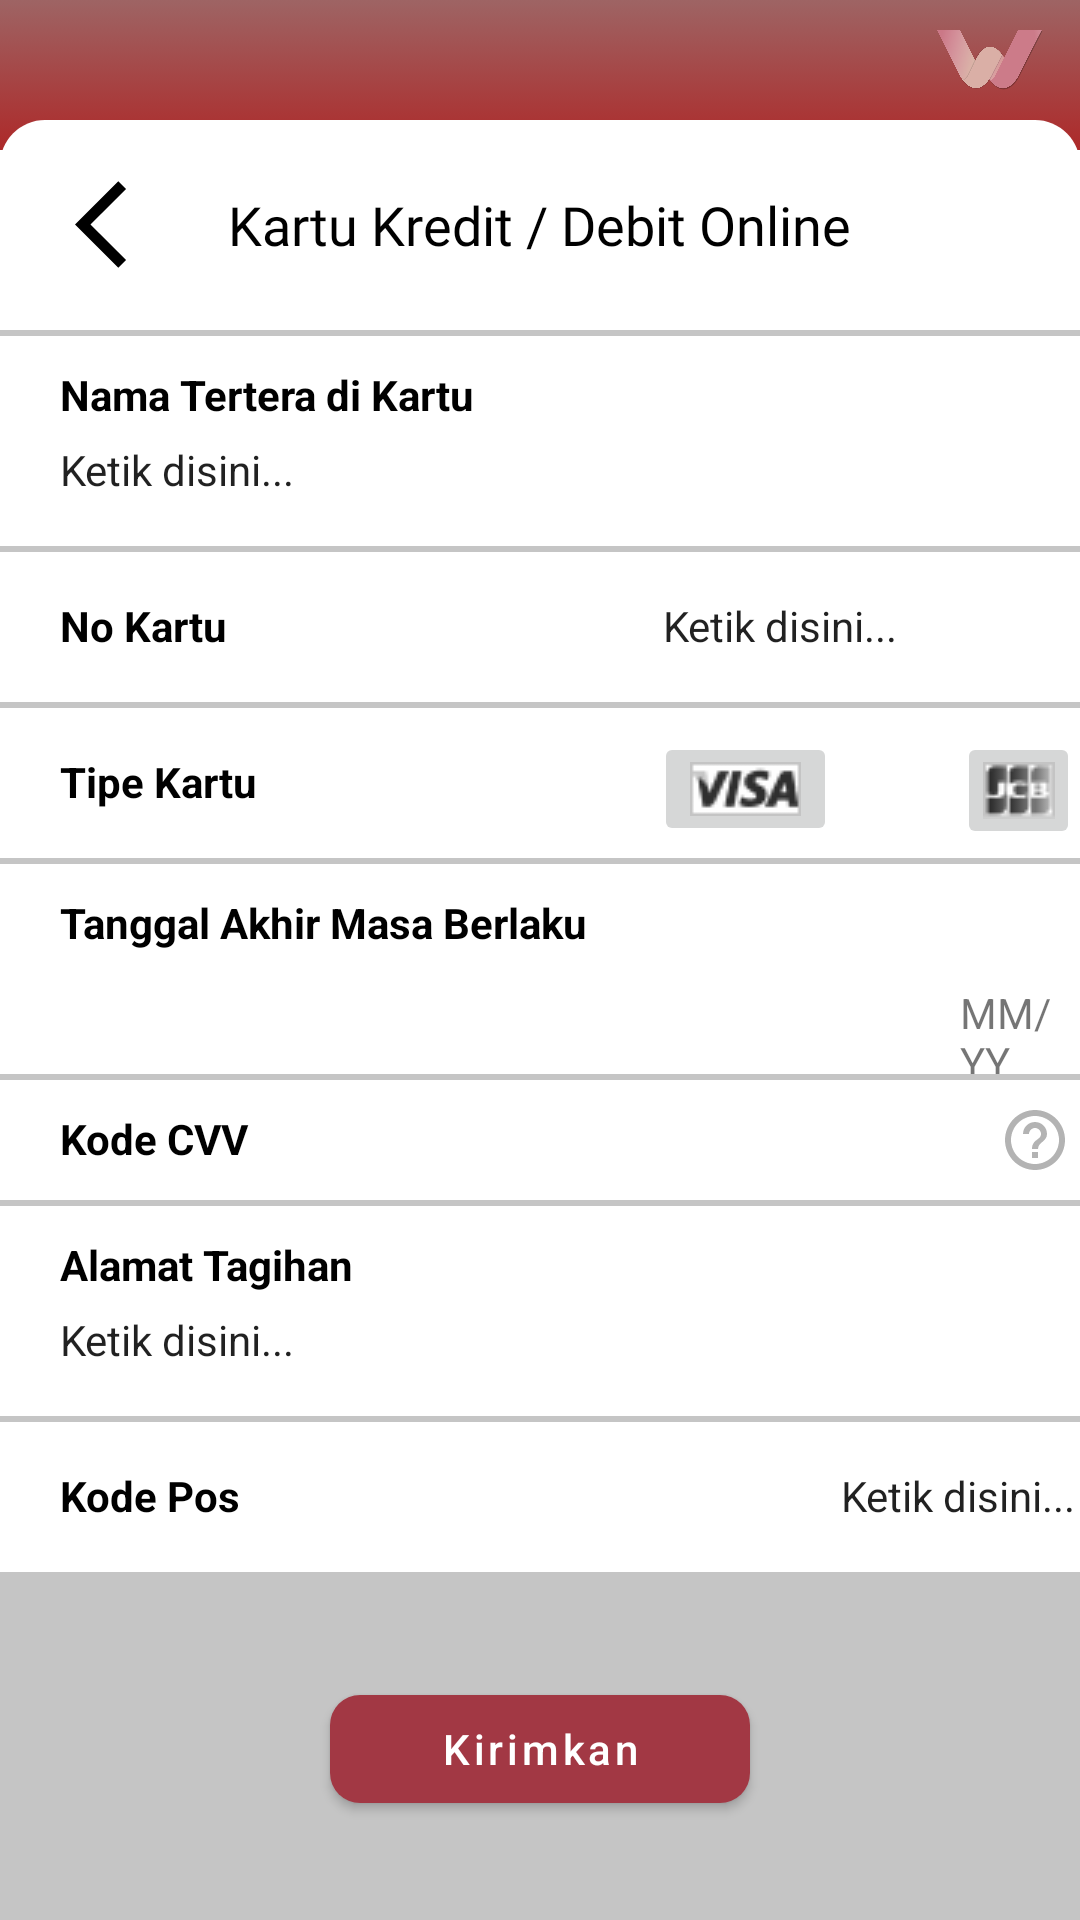

Icons on this 1080x1920 Android screen, each with its box as rect(x1, y1, x2, y2):
arrow back: rect(75, 181, 126, 268)
help: rect(1005, 1110, 1065, 1170)
